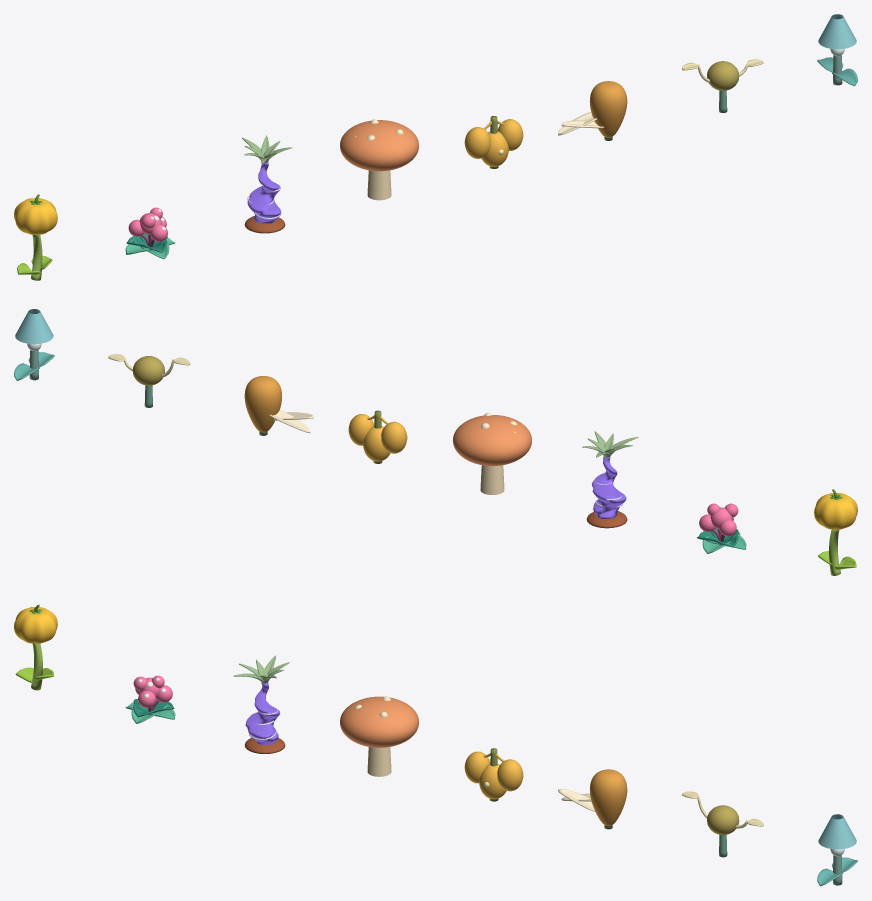
File: plants.glb
The picture shows the model from 3 angles, top to bottom: view 1: azimuth 30°, elevation 25°; view 2: azimuth 150°, elevation 25°; view 3: azimuth 330°, elevation 25°; orthographic projection.
Parts seen in each view (by area): view 1: puffcap_cap, lantern-pod_lanterns, comet-pear_fruit, sunny-sprout_fruit, twistroot_root, dewbell_bell, bubble-berry_fruit, clockvine_seed, bubble-berry, puffcap_stem, twistroot_crown; view 2: puffcap_cap, lantern-pod_lanterns, comet-pear_fruit, sunny-sprout_fruit, twistroot_root, bubble-berry_fruit, dewbell_bell, clockvine_seed, bubble-berry, puffcap_stem, twistroot_crown, comet-pear_tail; view 3: puffcap_cap, lantern-pod_lanterns, comet-pear_fruit, sunny-sprout_fruit, twistroot_root, dewbell_bell, bubble-berry_fruit, clockvine_seed, bubble-berry, puffcap_stem, twistroot_crown.
Part boxes in pixels (bbox=[...]): puffcap_cap: bbox=[340, 120, 418, 171]; lantern-pod_lanterns: bbox=[464, 119, 523, 166]; comet-pear_fruit: bbox=[589, 81, 627, 137]; sunny-sprout_fruit: bbox=[14, 198, 57, 234]; twistroot_root: bbox=[247, 161, 280, 223]; dewbell_bell: bbox=[818, 14, 856, 49]; bubble-berry_fruit: bbox=[128, 207, 167, 241]; clockvine_seed: bbox=[707, 61, 739, 90]; bubble-berry: bbox=[125, 233, 174, 259]; puffcap_stem: bbox=[367, 170, 391, 200]; twistroot_crown: bbox=[242, 135, 292, 163]; puffcap_cap: bbox=[453, 415, 531, 465]; lantern-pod_lanterns: bbox=[348, 414, 407, 461]; comet-pear_fruit: bbox=[244, 376, 282, 432]; sunny-sprout_fruit: bbox=[814, 492, 857, 529]; twistroot_root: bbox=[591, 456, 626, 518]; bubble-berry_fruit: bbox=[699, 503, 738, 536]; dewbell_bell: bbox=[15, 309, 53, 344]; clockvine_seed: bbox=[132, 356, 164, 385]; bubble-berry: bbox=[697, 528, 746, 553]; puffcap_stem: bbox=[480, 465, 504, 494]; twistroot_crown: bbox=[582, 431, 638, 457]; comet-pear_tail: bbox=[269, 410, 313, 432]; puffcap_cap: bbox=[340, 696, 418, 747]; lantern-pod_lanterns: bbox=[464, 751, 523, 799]; comet-pear_fruit: bbox=[590, 769, 627, 825]; sunny-sprout_fruit: bbox=[14, 607, 57, 643]; twistroot_root: bbox=[245, 682, 280, 744]; dewbell_bell: bbox=[818, 814, 856, 849]; bubble-berry_fruit: bbox=[133, 675, 172, 707]; clockvine_seed: bbox=[707, 805, 739, 834]; bubble-berry: bbox=[125, 698, 175, 723]; puffcap_stem: bbox=[367, 747, 391, 776]; twistroot_crown: bbox=[233, 655, 289, 683].
Size of the model in its own units: 16.1 by 1.57 by 1.32.
